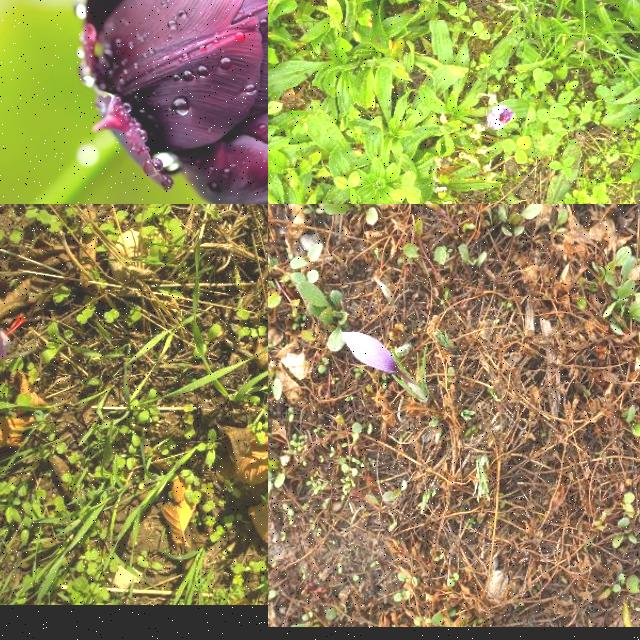flower: (341, 332, 403, 376), (0, 313, 25, 393), (487, 105, 515, 132)
